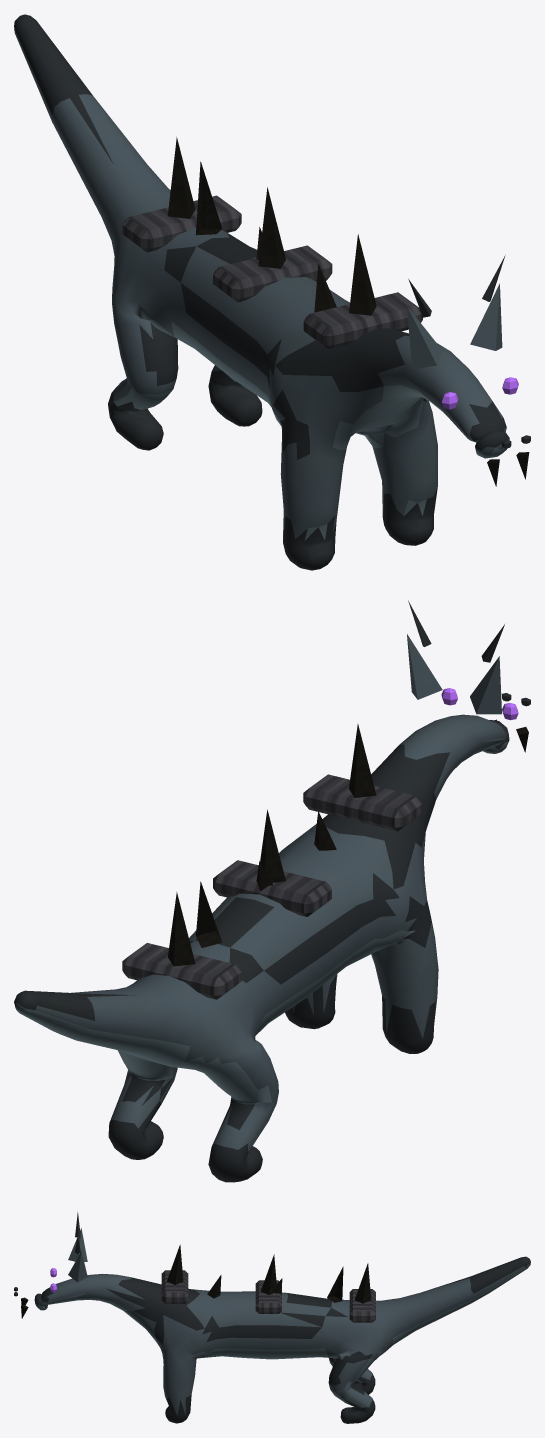
File: boss_12.glb
3 renders of one model, top to bottom at view 1: azimuth 30°, elevation 25°; view 2: azimuth 150°, elevation 25°; view 3: azimuth 270°, elevation 25°, orthographic. The views are drawn at different scales.
Visible parts, largest first — view 1: boss_12; view 2: boss_12; view 3: boss_12.
Part boxes in pixels (x1,y1,x2,y2): boss_12: [14, 14, 530, 570]; boss_12: [14, 600, 530, 1182]; boss_12: [14, 1212, 530, 1423].
Size of the model in its own units: 1.02 by 2.38 by 5.96.
6 materials, 6 textured.
